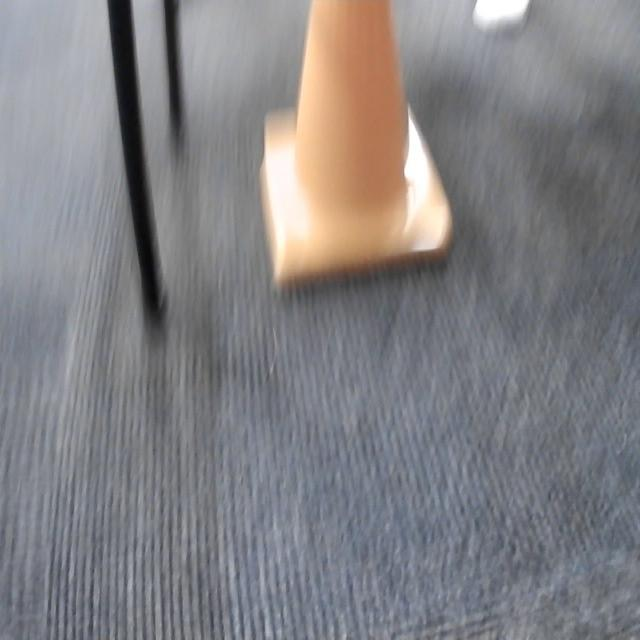cone: (256, 3, 453, 289)
